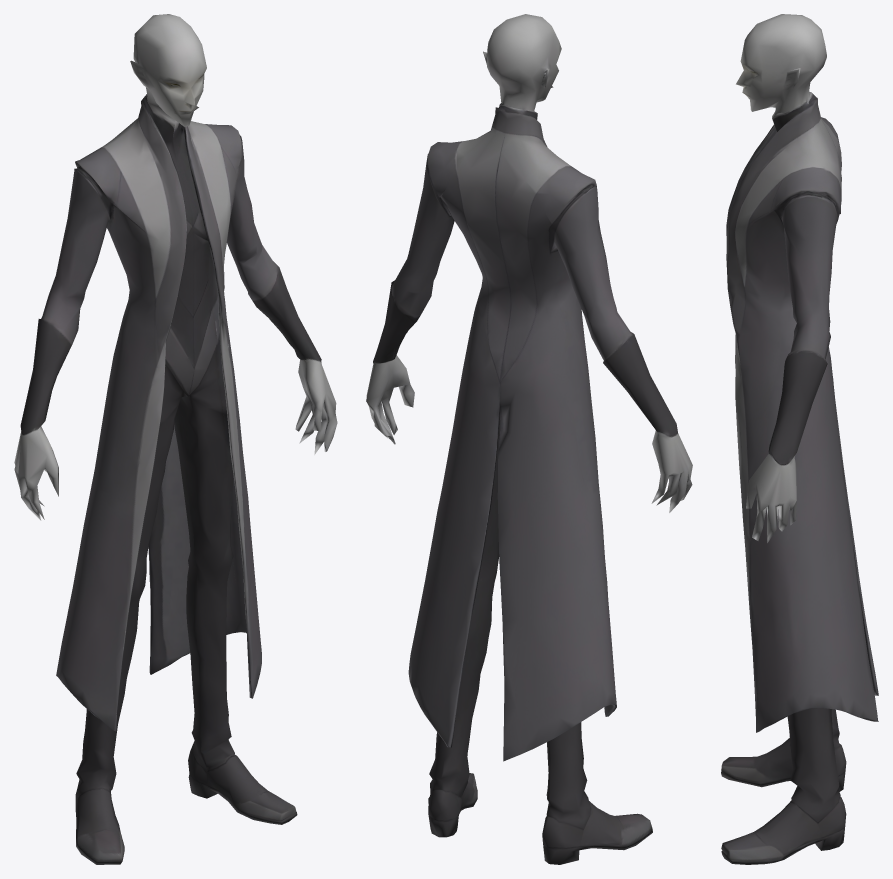
Rendered from CHR_PLAYER_01_05_01_v001_RAW.glb.
3 renders of one model, left to right at view 1: azimuth 30°, elevation 25°; view 2: azimuth 150°, elevation 25°; view 3: azimuth 270°, elevation 25°, orthographic.
Parts seen in each view (by area): view 1: tripo_node_9c755636-026c-48de-8c32-6cc046168a8e; view 2: tripo_node_9c755636-026c-48de-8c32-6cc046168a8e; view 3: tripo_node_9c755636-026c-48de-8c32-6cc046168a8e.
Boxes of the visible parts, bbox=[...] form: tripo_node_9c755636-026c-48de-8c32-6cc046168a8e: bbox=[14, 14, 337, 864]; tripo_node_9c755636-026c-48de-8c32-6cc046168a8e: bbox=[366, 14, 692, 864]; tripo_node_9c755636-026c-48de-8c32-6cc046168a8e: bbox=[721, 14, 878, 864].
Size of the model in its own units: 0.4011 by 0.9799 by 0.1752.
Materials: 1 (1 with a texture image).
